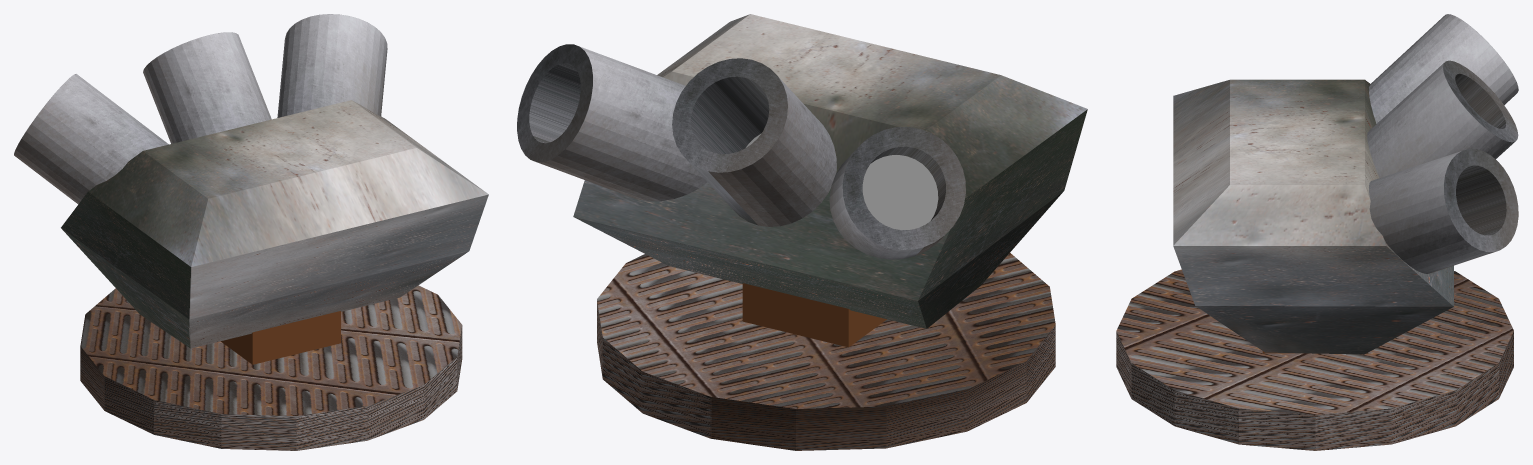
Rendered from FlareLauncher.fbx.
3 renders of one model, left to right at view 1: azimuth 30°, elevation 25°; view 2: azimuth 150°, elevation 25°; view 3: azimuth 270°, elevation 25°, orthographic. The views are drawn at different scales.
Parts seen in each view (by area): view 1: FlareLauncherMesh; view 2: FlareLauncherMesh; view 3: FlareLauncherMesh.
Boxes of the visible parts, box(x1,y1,x2,y2) form: FlareLauncherMesh: box(14, 14, 488, 450); FlareLauncherMesh: box(517, 14, 1087, 450); FlareLauncherMesh: box(1116, 14, 1518, 450).
Size of the model in its own units: 1.24 by 1.13 by 0.931.
